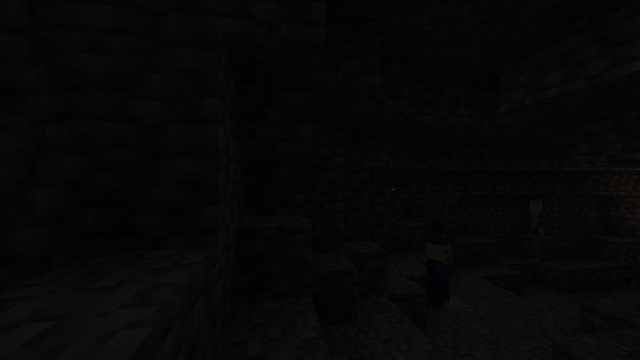creepers: (529, 198, 541, 234)
sorcieres: (422, 237, 454, 316)
